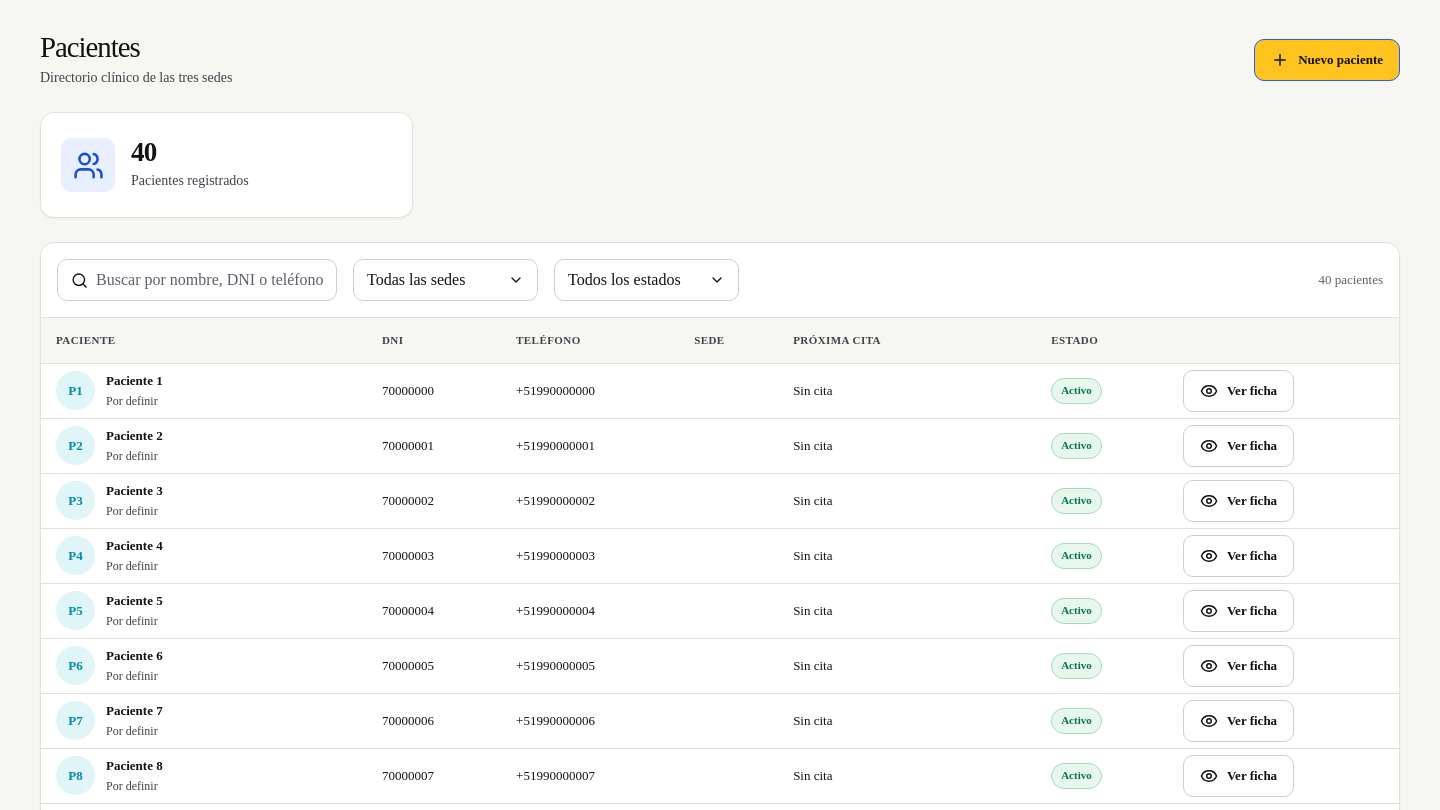
Test: PatientsPage directory counts › keeps the registered total when search reduces the visible rows
In the field with placeholder "Buscar por nombre, DNI o teléfono": (210, 280) x1=96 y1=268 x2=323 y2=292, type "Paciente 40"
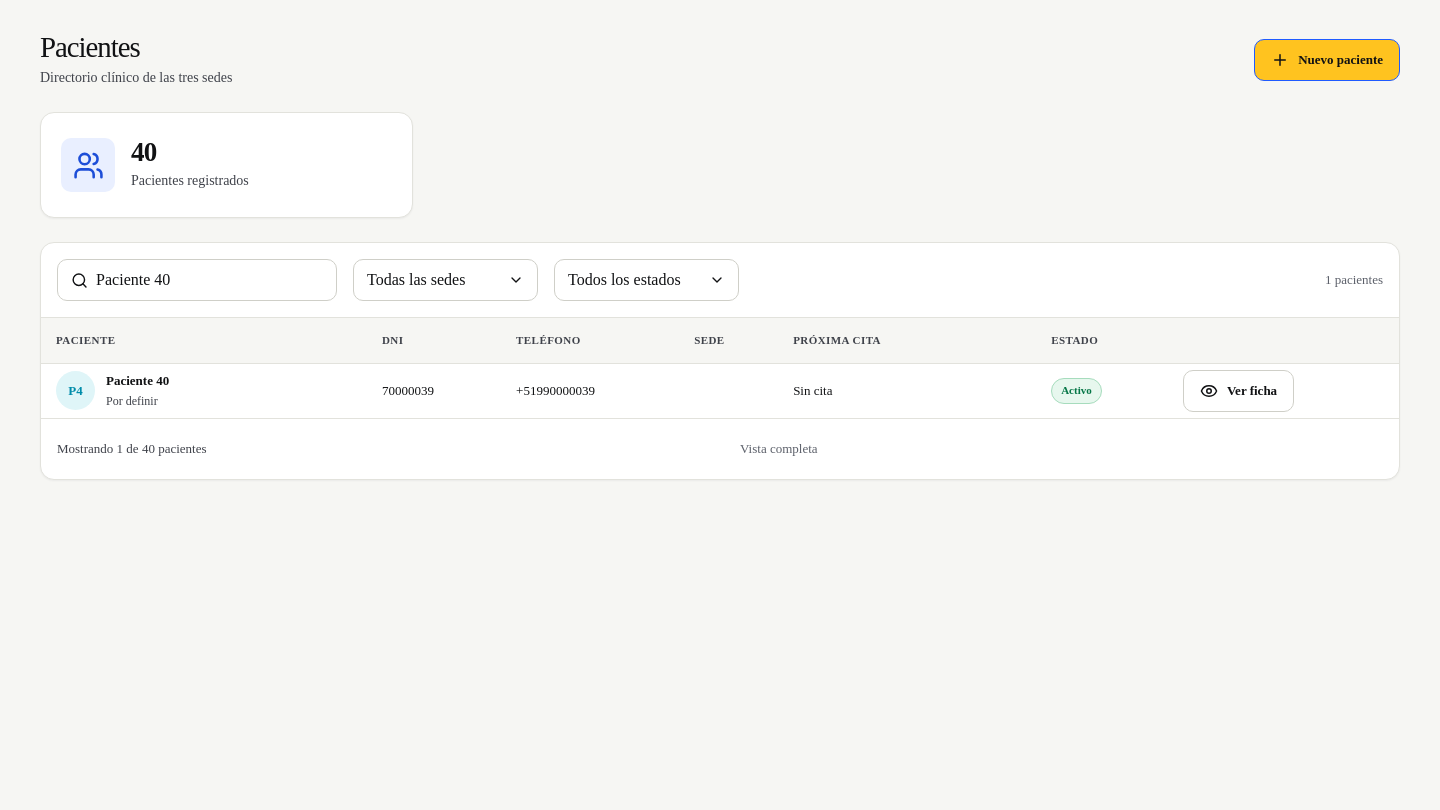
Result: the text "1 pacientes" is shown at x1=1325 y1=270 x2=1383 y2=290
Result: the element showing "Mostrando 1 de 40 pacientes Vista completa" is shown at x1=41 y1=418 x2=1399 y2=479
Replace the text in the field named "Buscar pacientes" with "Sin coincidencias": (210, 280) x1=96 y1=268 x2=323 y2=292
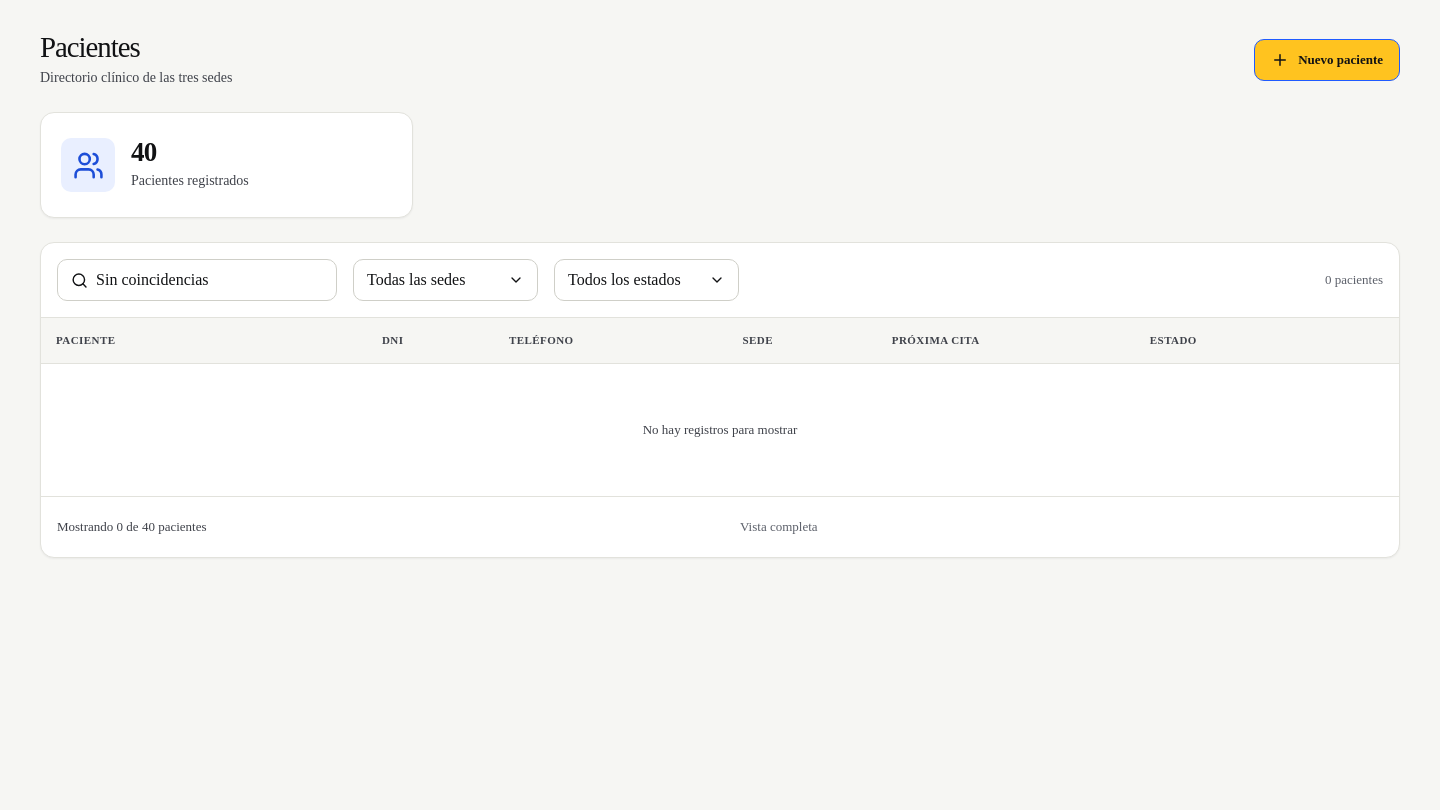
Result: the text "No hay registros para mostrar" is shown at x1=643 y1=422 x2=797 y2=437
Result: the element showing "Mostrando 0 de 40 pacientes Vista completa" is shown at x1=41 y1=496 x2=1399 y2=557
